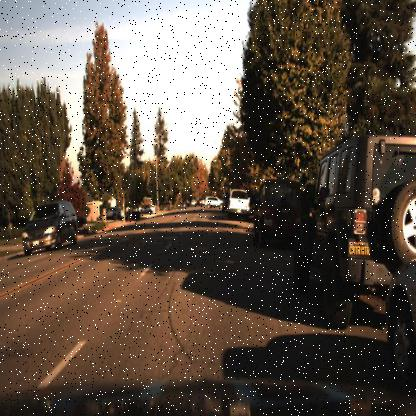car: (292, 133, 415, 329), (249, 172, 298, 256), (251, 176, 306, 246), (21, 199, 78, 258), (227, 187, 251, 221), (200, 192, 225, 212), (98, 204, 124, 219), (204, 196, 222, 209)
